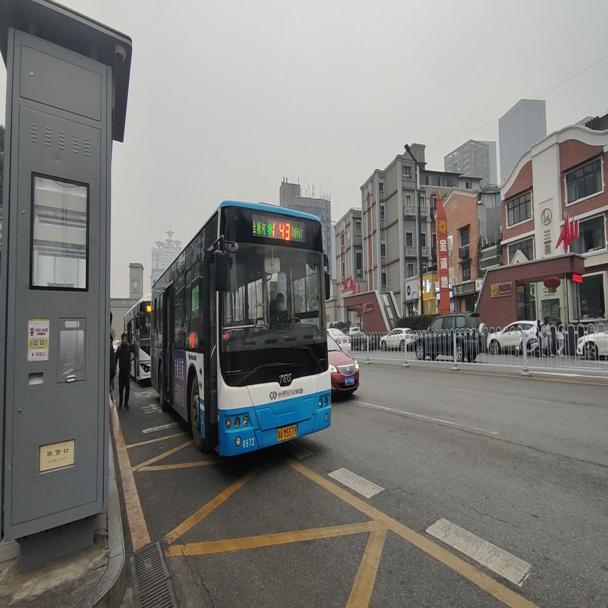bus: (149, 198, 332, 459), (122, 295, 151, 383)
screen: (271, 220, 290, 242)
